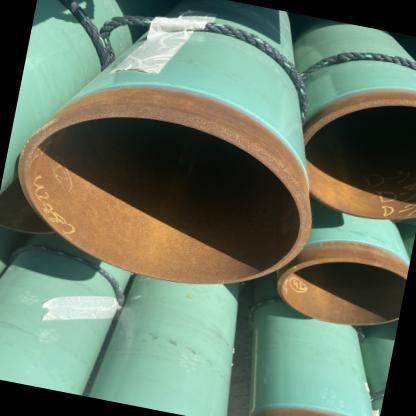clean: (124, 103, 202, 150)
